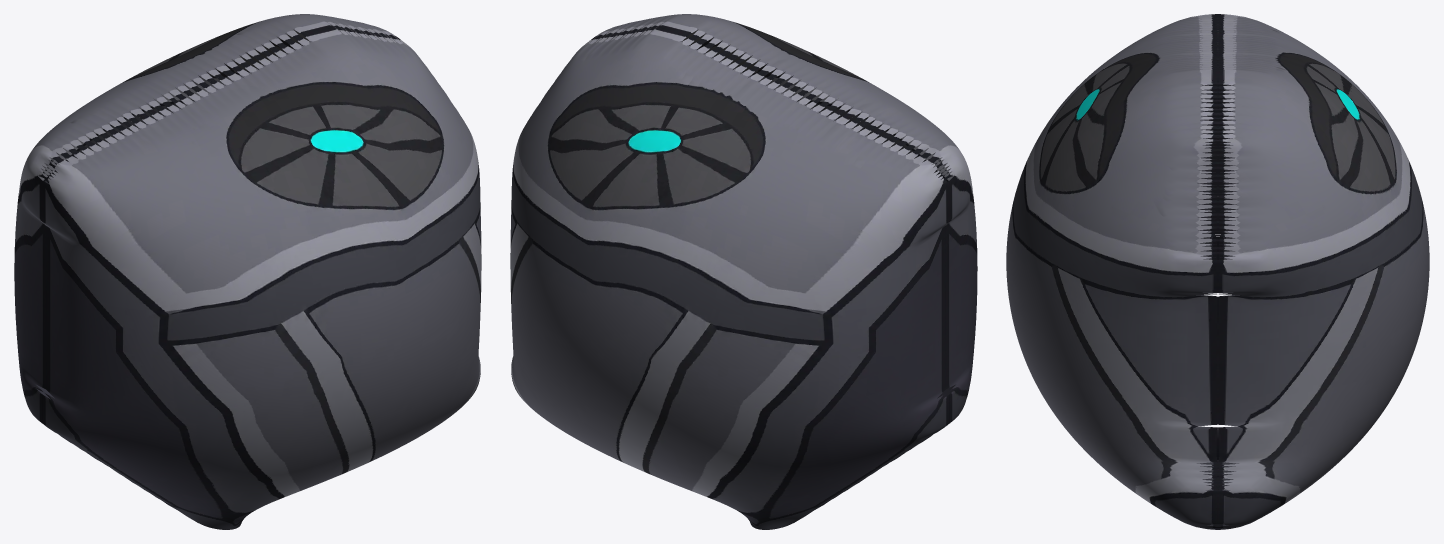
File: fan_casing.glb
3 views of the same model, side by side, from view 1: azimuth 30°, elevation 25°; view 2: azimuth 150°, elevation 25°; view 3: azimuth 270°, elevation 25° (orthographic).
Visible parts, largest first — view 1: fan_casing; view 2: fan_casing; view 3: fan_casing.
Part boxes in pixels (x1,y1,x2,y2): fan_casing: (14, 14, 481, 529); fan_casing: (510, 14, 977, 529); fan_casing: (1006, 14, 1429, 529).
Bounding box in the file's own units: 0.9889 × 0.9671 × 0.8651.
1 material, 1 textured.
